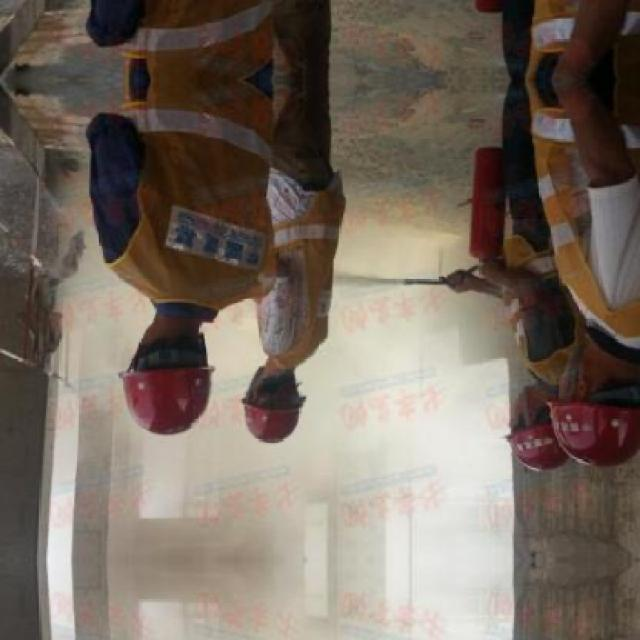con casco: (66, 278, 216, 464), (474, 332, 576, 510), (206, 334, 330, 455), (558, 280, 630, 462)
